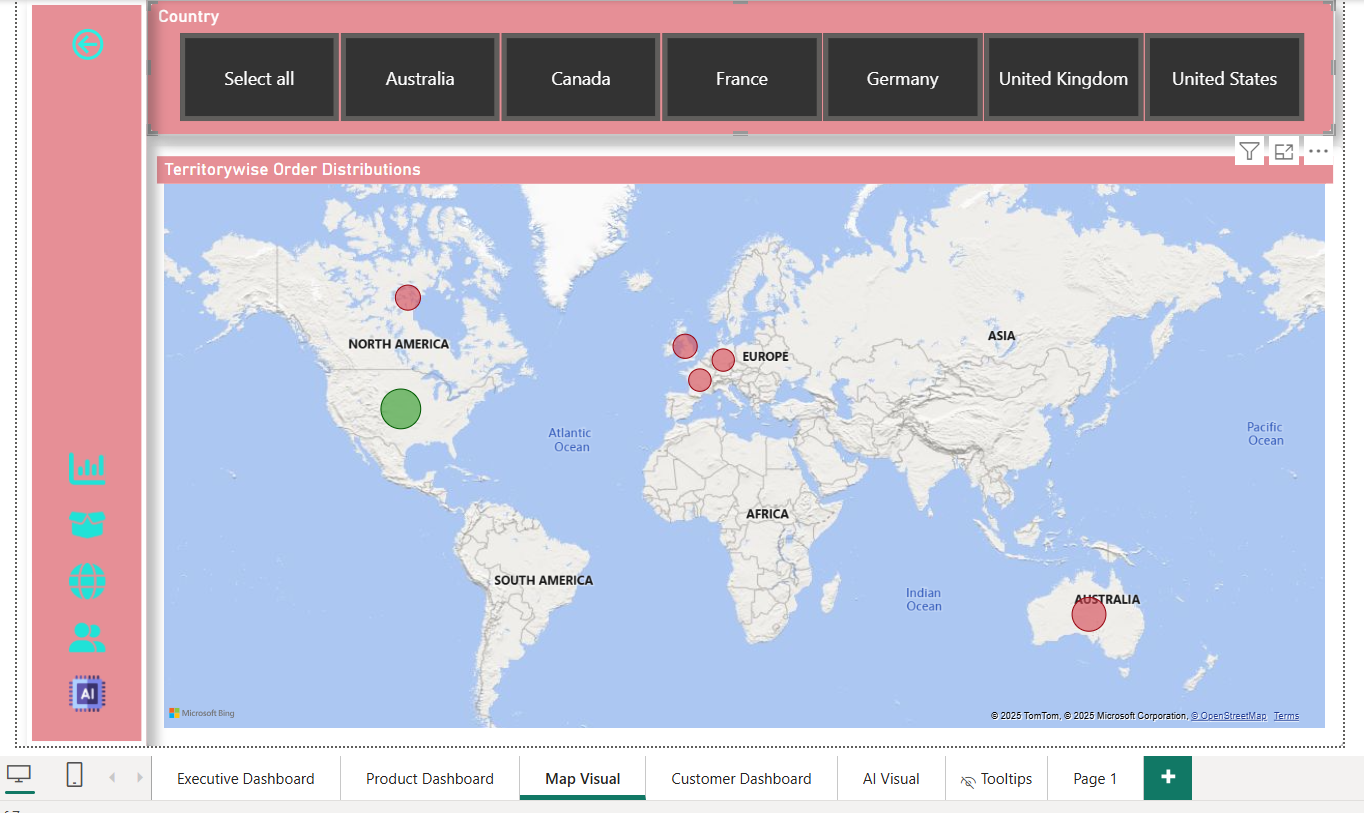

The dashboard page shown, as its layout file describes it:
{"tool":"powerbi","page":{"name":"Map Visual","canvas":[1280,720],"ordinal":2},"visuals":[{"type":"actionButton","box":[27.7,430.7,79.6,43.4],"z":0,"group":"g1"},{"type":"map","title":"Territorywise Order Distributions","fields":{"Category":["Territory Lookup.Territory Hierarchy.Continent","Territory Lookup.Territory Hierarchy.Country","Territory Lookup.Territory Hierarchy.Region"],"X":["_Measure.Total Orders"],"Size":["_Measure.Total Orders"]},"box":[125.5,141.2,1154.6,579.1],"z":0},{"type":"slicer","title":"Country","fields":{"Values":["Territory Lookup.Country"]},"box":[125,0,1146.4,130.1],"z":1000},{"type":"actionButton","box":[27.7,485,79.6,43.4],"z":1000,"group":"g1"},{"type":"shape","box":[10.2,0,115.2,720.3],"z":2000},{"type":"actionButton","box":[27.7,539.3,79.6,43.4],"z":2000,"group":"g1"},{"type":"actionButton","box":[27.7,593.6,79.6,43.4],"z":3000,"group":"g1"},{"type":"group","id":"g1","title":"Group 1","box":[27.7,430.7,79.6,260.6],"z":3000},{"type":"actionButton","box":[18.1,22.9,100.1,39.8],"z":4000},{"type":"actionButton","box":[27.7,647.9,79.6,43.4],"z":4000,"group":"g1"}]}

Visuals, with their boxes on the page's 1280x720 design canvas (x1, y1, x2, y2). These are canvas units, not pixel positions in the 1364x813 screenshot, which may show the page scaled, cropped or inside an application window:
actionButton: Rect(28, 431, 107, 474)
"Territorywise Order Distributions" map: Rect(126, 141, 1280, 720)
"Country" slicer: Rect(125, 0, 1271, 130)
actionButton: Rect(28, 485, 107, 528)
shape: Rect(10, 0, 125, 720)
actionButton: Rect(28, 539, 107, 583)
actionButton: Rect(28, 594, 107, 637)
"Group 1" group: Rect(28, 431, 107, 691)
actionButton: Rect(18, 23, 118, 63)
actionButton: Rect(28, 648, 107, 691)
